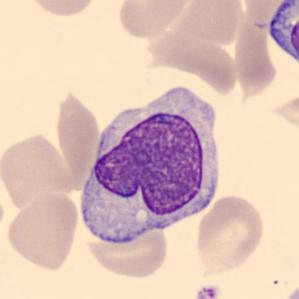Monocyte: (73, 78, 229, 246), (262, 0, 299, 71)
Platelets: (194, 283, 221, 299)
RBC: (4, 190, 81, 273), (192, 192, 268, 276), (0, 129, 74, 210), (52, 87, 103, 191), (82, 222, 170, 280), (176, 0, 246, 46), (115, 0, 194, 40), (25, 0, 99, 18)
